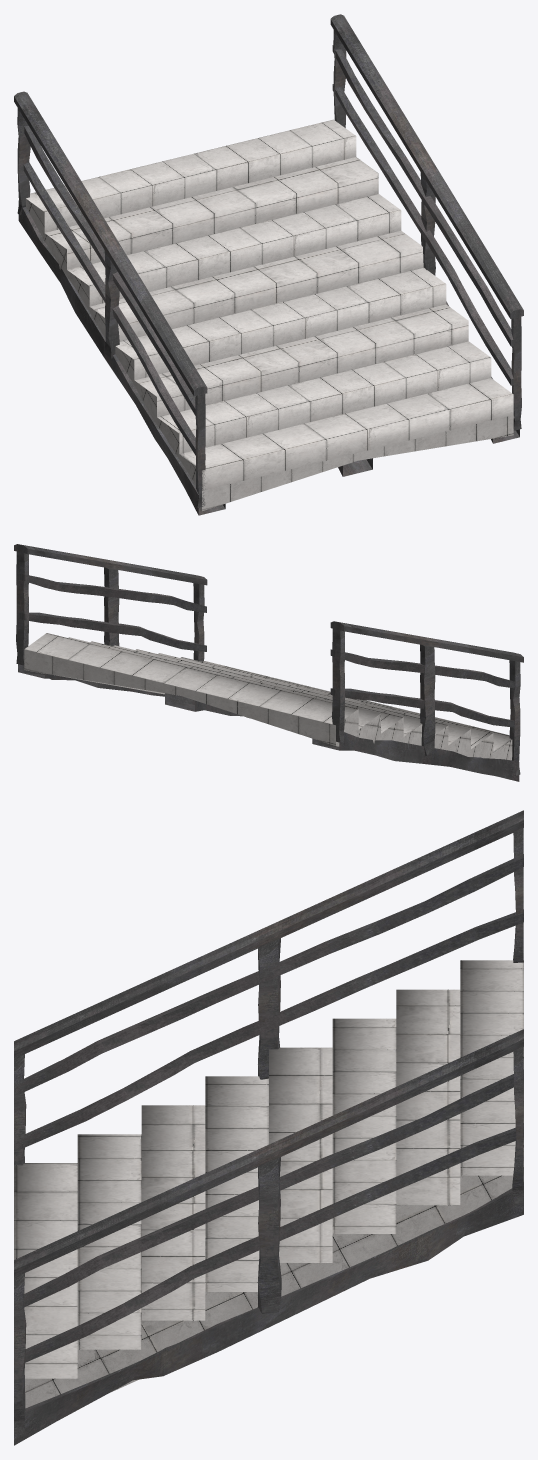
Rendered from scp_stairs_light.dae.
The picture shows the model from 3 angles, top to bottom: view 1: azimuth 30°, elevation 25°; view 2: azimuth 150°, elevation 25°; view 3: azimuth 270°, elevation 25°; orthographic projection. The views are drawn at different scales.
Parts seen in each view (by area): view 1: polySurface13, polySurface87, polySurface81, polySurface52, polySurface85, polySurface86; view 2: polySurface13, polySurface85, polySurface86, polySurface81, polySurface87, polySurface52; view 3: polySurface13, polySurface87, polySurface52, polySurface81, polySurface86, polySurface85.
Part boxes in pixels (<box>): polySurface13: <box>25,119,513,511</box>; polySurface87: <box>14,14,523,396</box>; polySurface81: <box>332,45,513,385</box>; polySurface52: <box>23,126,205,459</box>; polySurface85: <box>17,30,521,507</box>; polySurface86: <box>18,200,519,515</box>; polySurface13: <box>24,633,512,760</box>; polySurface85: <box>16,551,520,776</box>; polySurface86: <box>18,664,519,781</box>; polySurface81: <box>19,573,206,651</box>; polySurface87: <box>14,544,523,662</box>; polySurface52: <box>330,649,514,727</box>; polySurface13: <box>14,960,523,1408</box>; polySurface87: <box>14,810,523,1277</box>; polySurface52: <box>14,854,523,1151</box>; polySurface81: <box>23,1069,523,1362</box>; polySurface86: <box>14,1182,523,1445</box>; polySurface85: <box>14,828,523,1435</box>.
Size of what is drawn, in the model's own units: 4.23 by 4 by 3.57.
